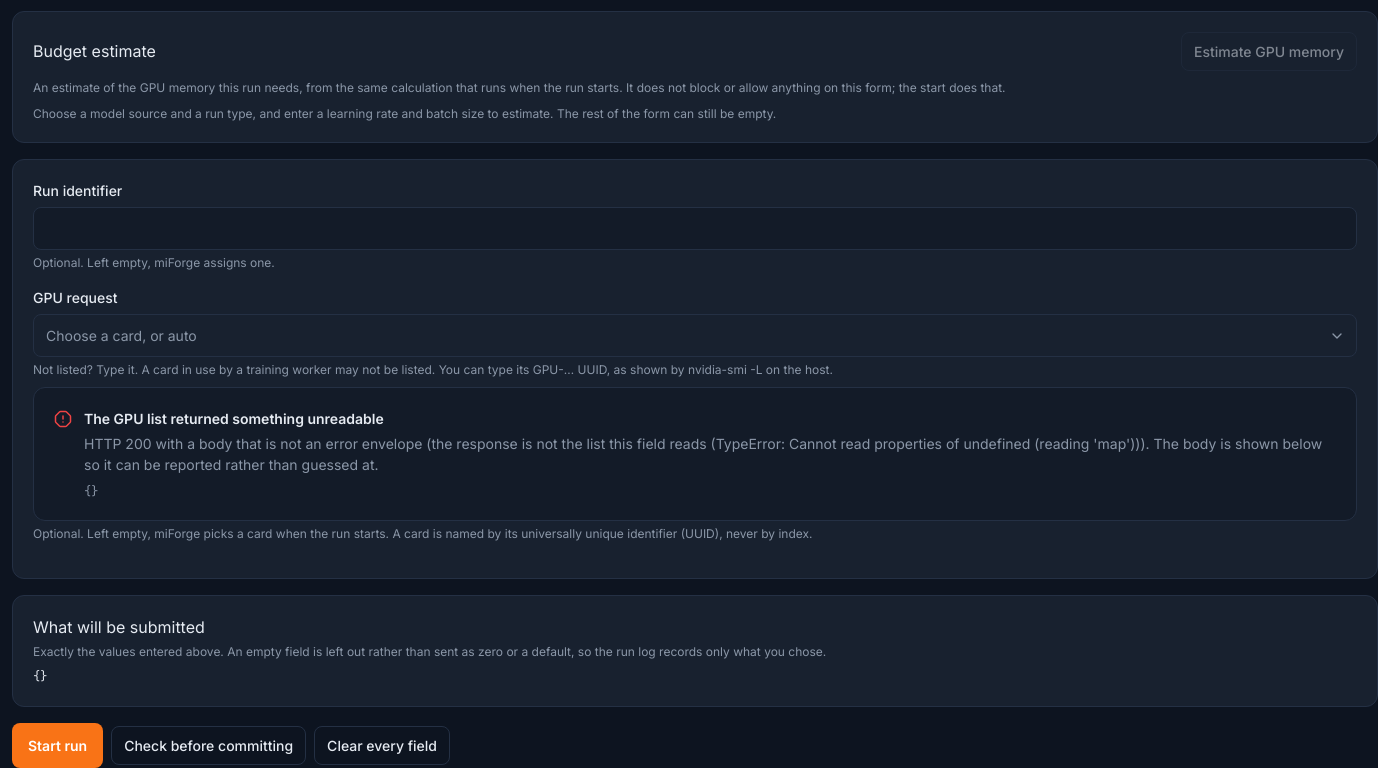
[NewRunForm] › should show the validators resolved summary, and say a green check enables nothing
(page scrolled)
Step 1. Click the button with test id "check-definition" → (209, 745), box [111, 726, 306, 765]
(page scrolled)
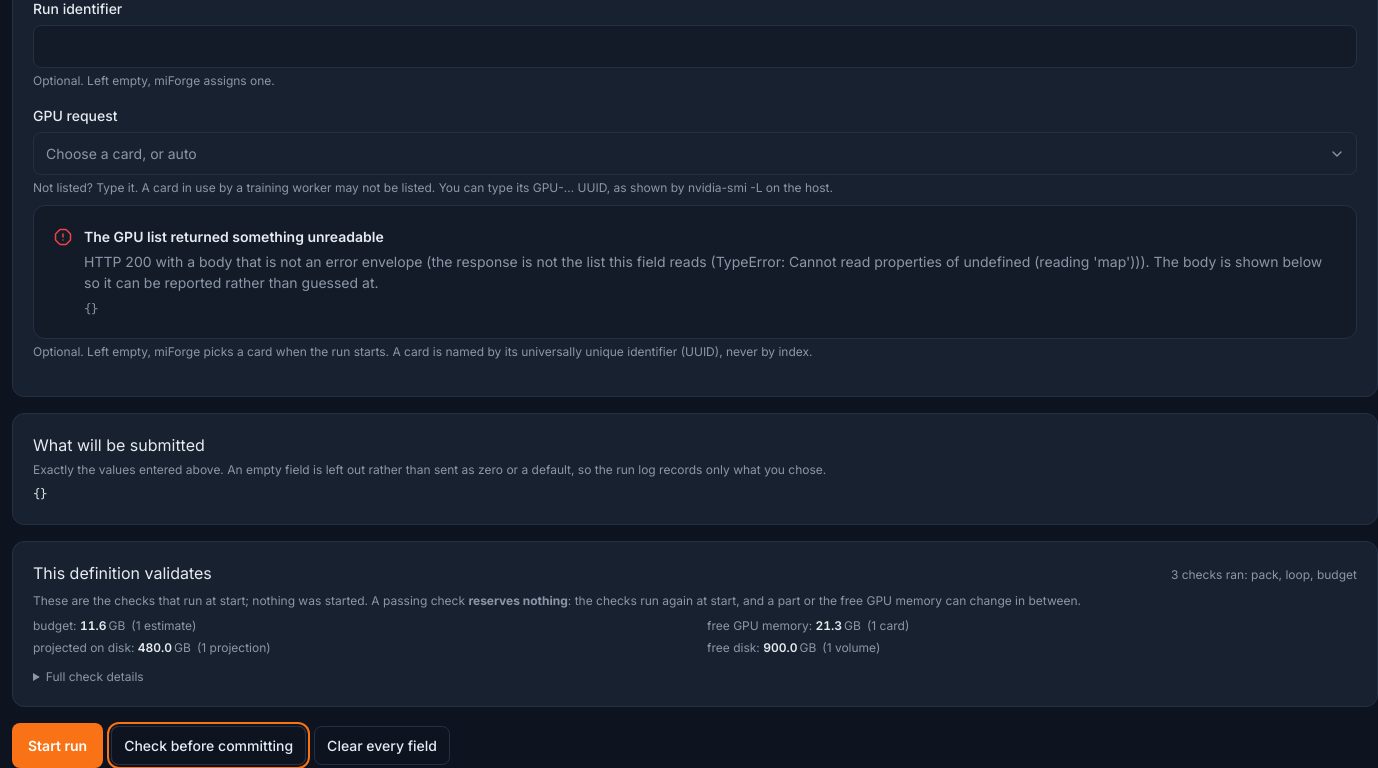
Check: the element with test id "resolved-summary" is shown, box [12, 541, 1377, 707]
Check: the element with test id "resolved-summary" shows "11.6", box [80, 618, 106, 633]
Check: the element with test id "resolved-summary" shows "21.3", box [816, 618, 842, 633]
